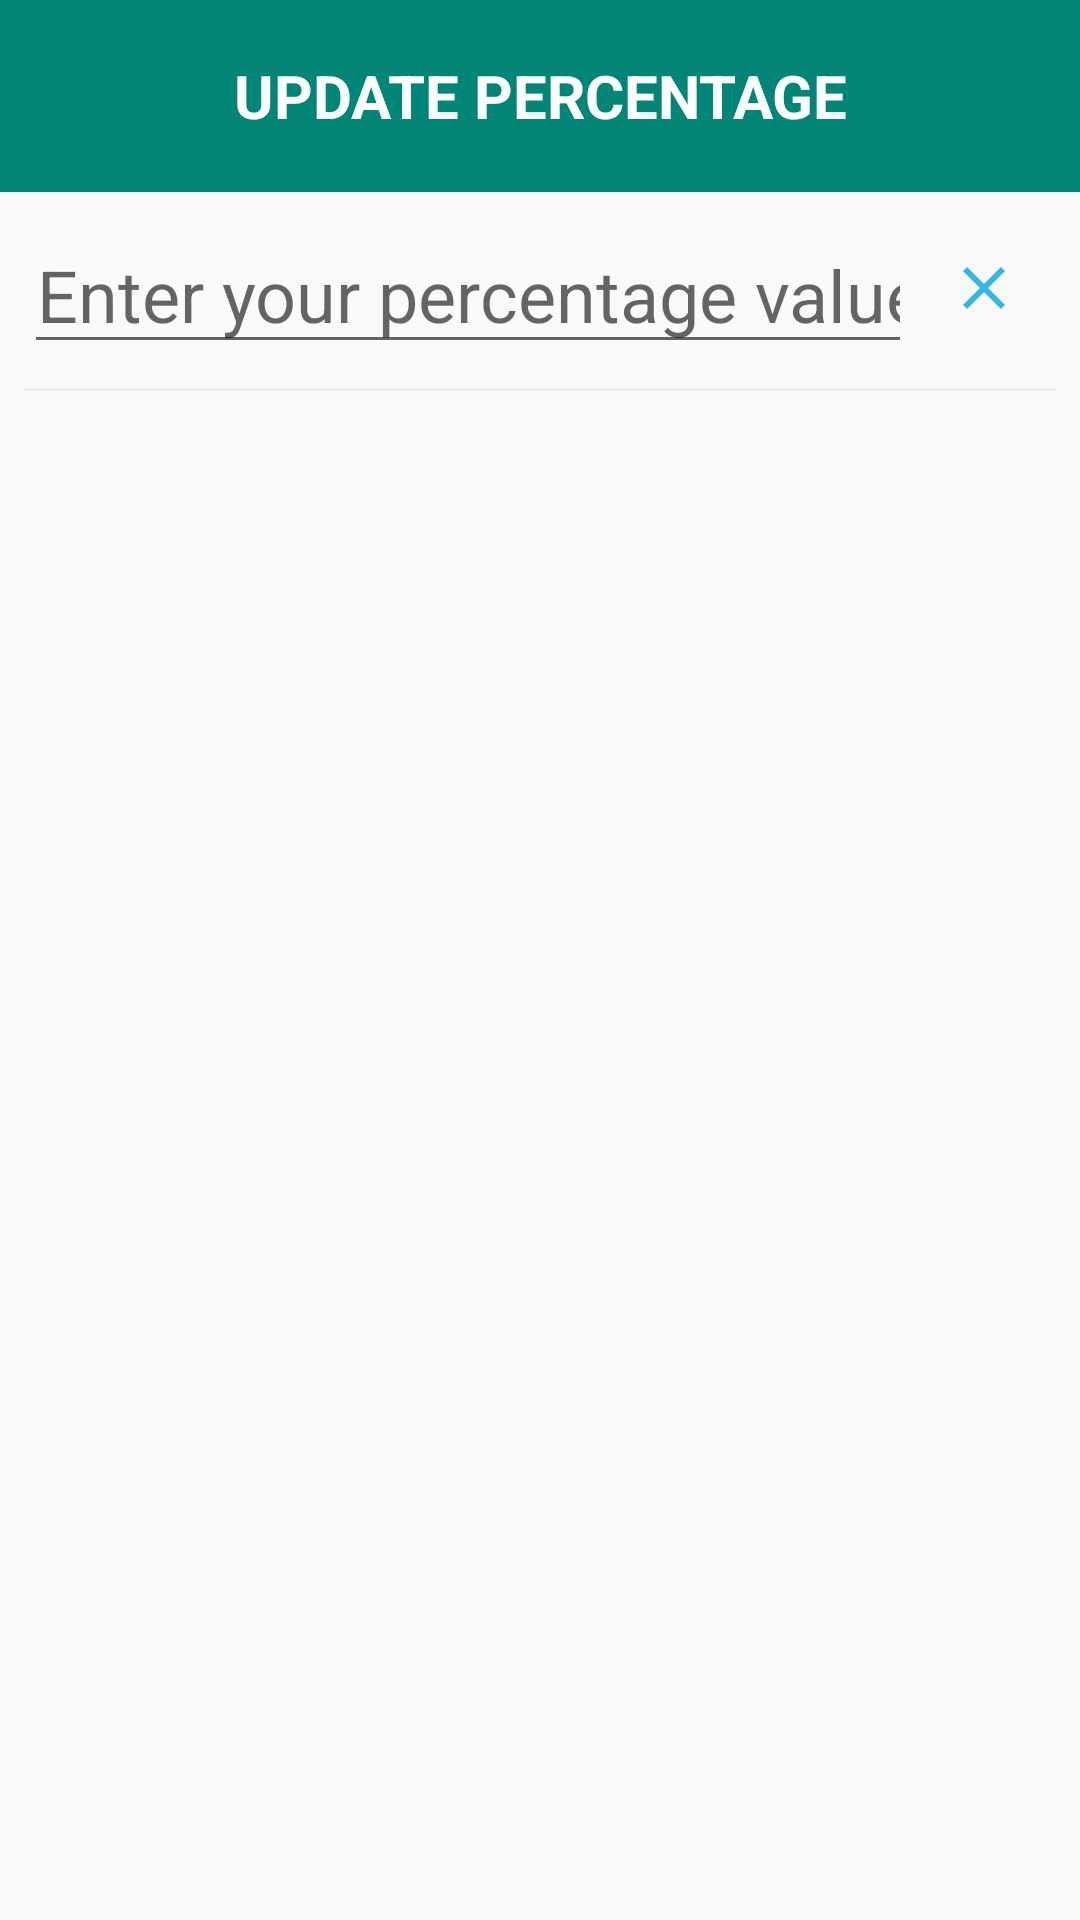

Where icons sit on this 1080w x 1920h app screen, as bbox=[x1, y1, x2, y2]:
Clear Button: bbox=[963, 267, 1005, 309]
